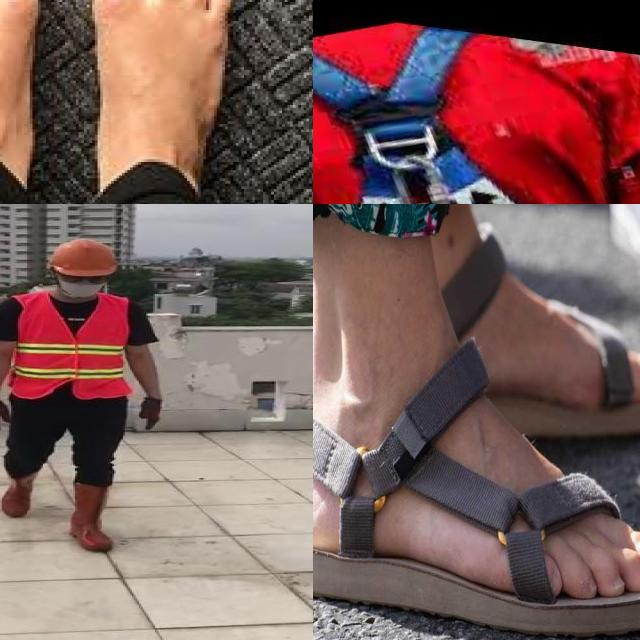Barefoots: (0, 0, 232, 204)
Harness: (313, 28, 520, 204)
Sandals: (313, 320, 640, 638)
boots: (70, 479, 116, 552), (0, 469, 38, 518)
head_helmet: (44, 234, 120, 278)
person: (0, 230, 173, 564)
vest: (9, 292, 130, 399)
